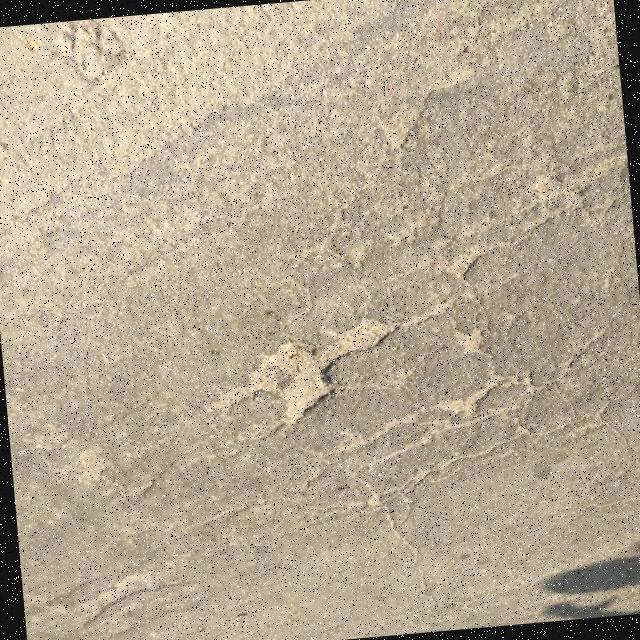Pothole: (213, 310, 393, 427)
